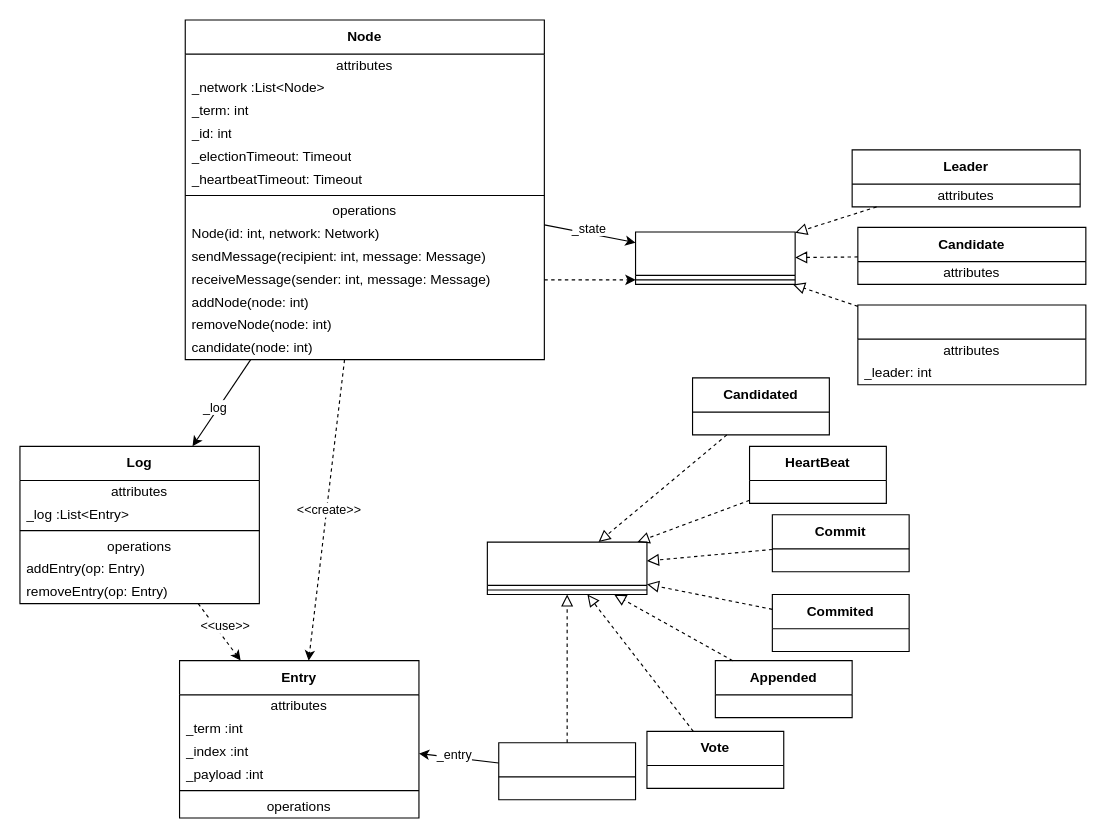
The diagram is 1106 pixels wide and 838 high, and some of its shapes have lost their labels. Each missing label, with the box of its shape:
<<interface>> Message: (486, 541, 647, 595)
<<interface>> NodeState: (634, 231, 795, 284)
AppendEntry: (498, 742, 636, 800)
Follower: (857, 304, 1086, 385)
